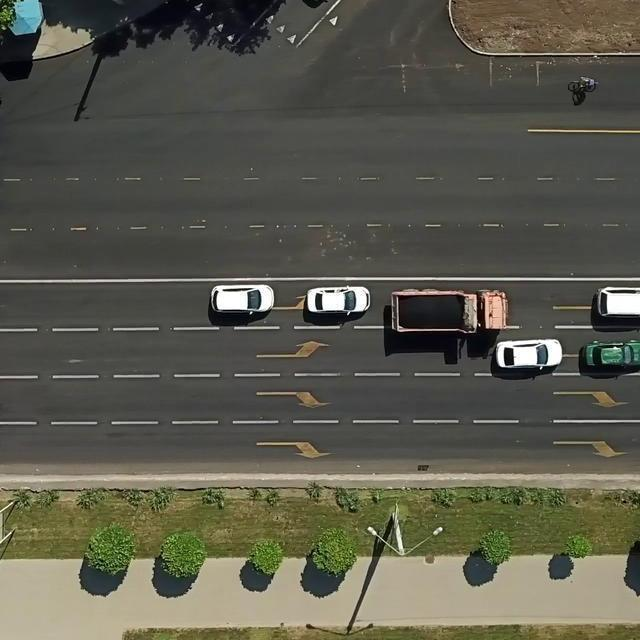Car: (494, 338, 562, 368), (210, 284, 274, 314), (306, 286, 370, 314), (581, 340, 640, 368), (595, 286, 640, 318), (300, 0, 358, 2)
Motorcycle: (568, 78, 598, 92)
